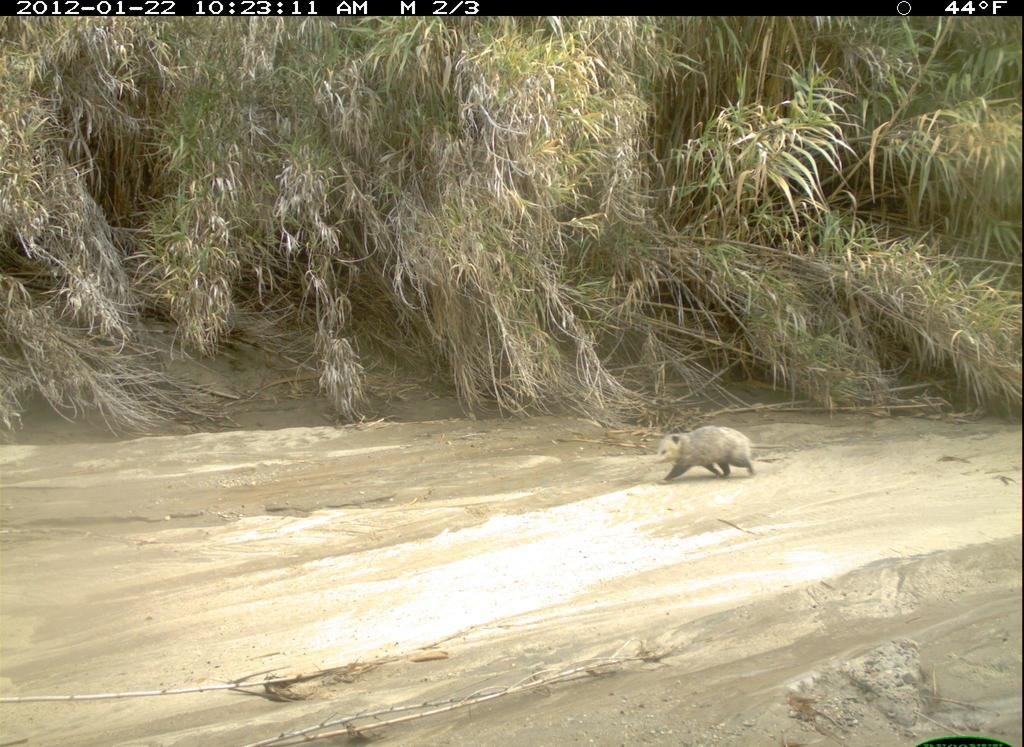opossum: (648, 418, 779, 496)
